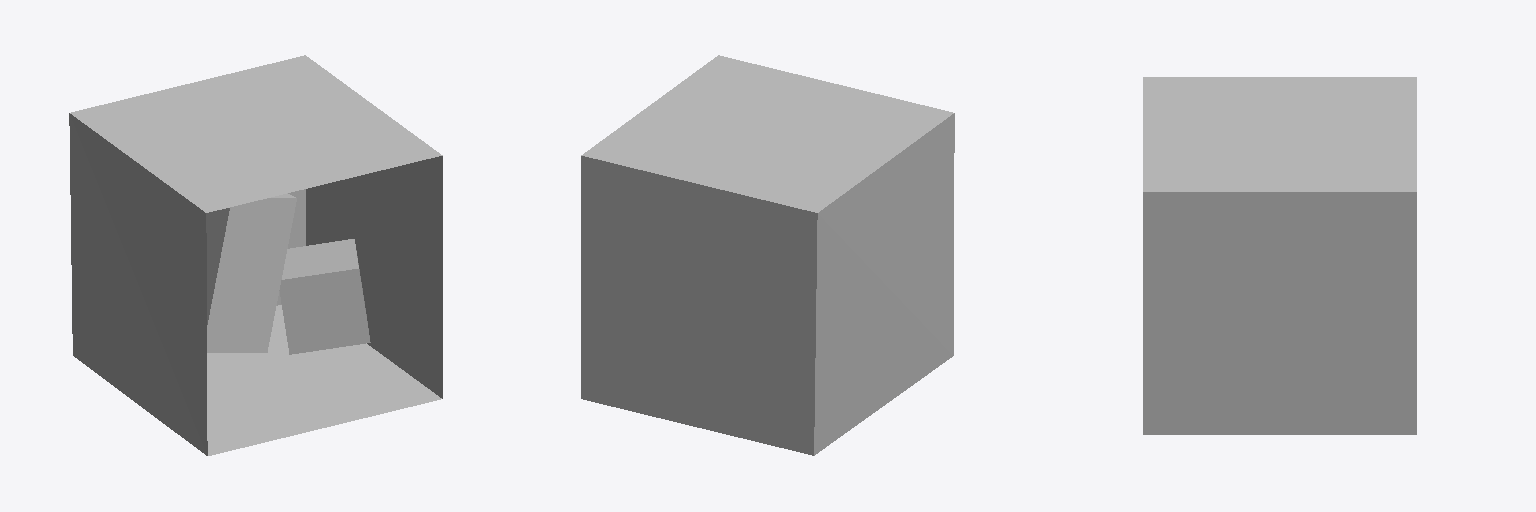
Rendered from CornellBox_random.obj.
3 views of the same model, side by side, from view 1: azimuth 30°, elevation 25°; view 2: azimuth 150°, elevation 25°; view 3: azimuth 270°, elevation 25° (orthographic).
Parts seen in each view (by area): view 1: leftWall, ceiling, rightWall, floor, tallBox, shortBox, backWall; view 2: backWall, leftWall, ceiling; view 3: rightWall, ceiling.
Part boxes in pixels (left/top/right/bottom): leftWall: left=69, top=113, right=207, bottom=455; ceiling: left=70, top=55, right=442, bottom=212; rightWall: left=306, top=156, right=442, bottom=398; floor: left=207, top=305, right=441, bottom=455; tallBox: left=206, top=193, right=296, bottom=352; shortBox: left=279, top=239, right=370, bottom=354; backWall: left=277, top=189, right=305, bottom=305; backWall: left=581, top=156, right=817, bottom=455; leftWall: left=814, top=113, right=954, bottom=455; ceiling: left=581, top=55, right=953, bottom=212; rightWall: left=1143, top=192, right=1416, bottom=434; ceiling: left=1143, top=77, right=1416, bottom=191.
Size of the model in its own units: 2.02 by 1.99 by 2.03.